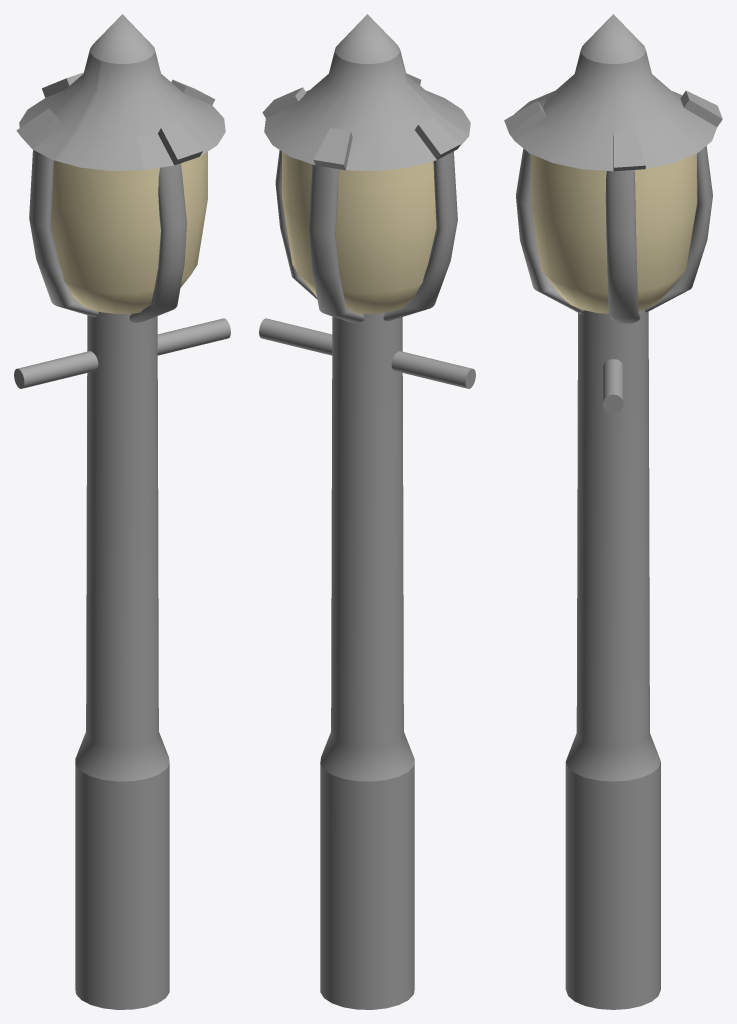
File: oldLampost.fbx
The picture shows the model from 3 angles, left to right: view 1: azimuth 30°, elevation 25°; view 2: azimuth 150°, elevation 25°; view 3: azimuth 270°, elevation 25°; orthographic projection.
Parts seen in each view (by area): view 1: pCylinder2, pCylinder4, pCylinder3, pTorus4, pTorus3, pCylinder5; view 2: pCylinder2, pCylinder4, pCylinder3, pTorus1, pTorus3, pCylinder5, pTorus2; view 3: pCylinder2, pCylinder4, pCylinder3, pTorus2, pTorus4, pTorus1, pCylinder5.
Boxes of the visible parts, <box> form: pCylinder2: <box>75,311,169,1009</box>; pCylinder4: <box>16,14,225,170</box>; pCylinder3: <box>51,151,207,313</box>; pTorus4: <box>129,163,186,322</box>; pTorus3: <box>29,150,98,316</box>; pCylinder5: <box>14,318,230,388</box>; pCylinder2: <box>320,312,414,1009</box>; pCylinder4: <box>262,14,470,170</box>; pCylinder3: <box>282,151,436,313</box>; pTorus1: <box>308,164,364,322</box>; pTorus3: <box>383,151,457,320</box>; pCylinder5: <box>259,318,475,388</box>; pTorus2: <box>275,150,317,299</box>; pCylinder2: <box>565,309,660,1009</box>; pCylinder4: <box>504,14,722,171</box>; pCylinder3: <box>530,153,697,313</box>; pTorus2: <box>605,170,640,323</box>; pTorus4: <box>516,148,583,314</box>; pTorus1: <box>645,146,712,312</box>; pCylinder5: <box>603,359,623,413</box>.
Size of the model in its own units: 0.8005 by 3.62 by 0.7342.
